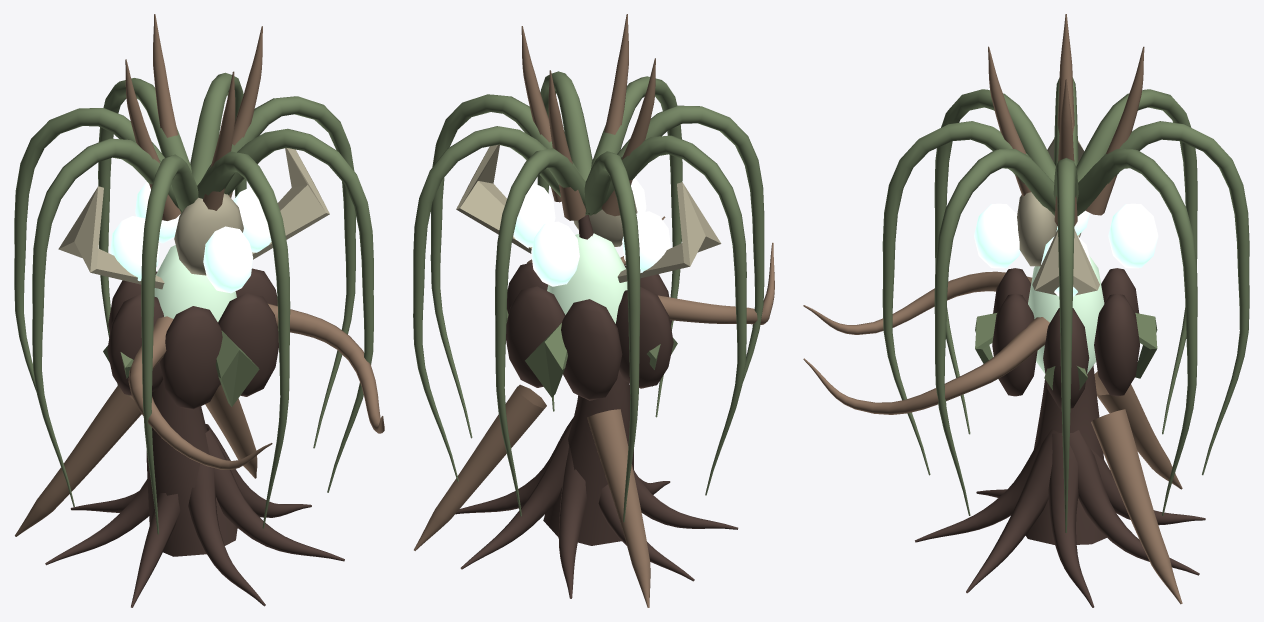
Rendered from willow.glb.
3 renders of one model, left to right at view 1: azimuth 30°, elevation 25°; view 2: azimuth 150°, elevation 25°; view 3: azimuth 270°, elevation 25°, orthographic. The views are drawn at different scales.
Parts seen in each view (by area): view 1: Bent trunk, Layered bark plate, Mobility frill, Enlarged spore sac, Extended strike tendril, Crown growth, Weeping branch.003, Weeping branch, Weeping branch.002, EnemyCore, Weeping branch.001, Older leaf; view 2: Bent trunk, Mobility frill, Layered bark plate, Enlarged spore sac, Crown growth, Weeping branch.001, Weeping branch.002, Weeping branch.003, Weeping branch, EnemyCore, Extended strike tendril, Older leaf; view 3: Bent trunk, Layered bark plate, Mobility frill, Extended strike tendril, Weeping branch.001, Enlarged spore sac, Weeping branch.002, Crown growth, Weeping branch, Weeping branch.003, EnemyCore, Older leaf.
Part boxes in pixels (left/top/right/bottom): Bent trunk: left=32, top=128, right=373, bottom=607; Layered bark plate: left=107, top=268, right=278, bottom=409; Mobility frill: left=15, top=148, right=329, bottom=536; Enlarged spore sac: left=110, top=181, right=271, bottom=293; Extended strike tendril: left=128, top=303, right=384, bottom=469; Crown growth: left=125, top=14, right=262, bottom=220; Weeping branch.003: left=14, top=108, right=164, bottom=391; Weeping branch: left=202, top=96, right=355, bottom=448; Weeping branch.002: left=98, top=78, right=191, bottom=385; EnemyCore: left=154, top=245, right=236, bottom=321; Weeping branch.001: left=190, top=72, right=246, bottom=197; Older leaf: left=103, top=330, right=278, bottom=406; Bent trunk: left=455, top=71, right=764, bottom=598; Mobility frill: left=414, top=144, right=721, bottom=607; Layered bark plate: left=506, top=262, right=673, bottom=400; Enlarged spore sac: left=513, top=178, right=670, bottom=286; Crown growth: left=521, top=14, right=655, bottom=220; Weeping branch.001: left=413, top=126, right=586, bottom=481; Weeping branch.002: left=495, top=148, right=594, bottom=516; Weeping branch.003: left=584, top=151, right=640, bottom=522; Weeping branch: left=430, top=94, right=580, bottom=438; EnemyCore: left=547, top=233, right=627, bottom=323; Extended strike tendril: left=527, top=216, right=774, bottom=324; Older leaf: left=506, top=310, right=677, bottom=397; Bent trunk: left=882, top=77, right=1205, bottom=607; Layered bark plate: left=992, top=268, right=1139, bottom=408; Mobility frill: left=1032, top=138, right=1182, bottom=604; Extended strike tendril: left=803, top=271, right=1049, bottom=414; Weeping branch.001: left=1077, top=149, right=1197, bottom=515; Enlarged spore sac: left=974, top=203, right=1158, bottom=296; Weeping branch.002: left=1101, top=121, right=1249, bottom=475; Crown growth: left=988, top=14, right=1144, bottom=226; Weeping branch: left=1053, top=158, right=1078, bottom=532; Weeping branch.003: left=1076, top=89, right=1197, bottom=434; EnemyCore: left=1028, top=256, right=1104, bottom=373; Older leaf: left=975, top=313, right=1157, bottom=390.
Bounding box in the file's own units: 1.75 × 2.63 × 2.13.
